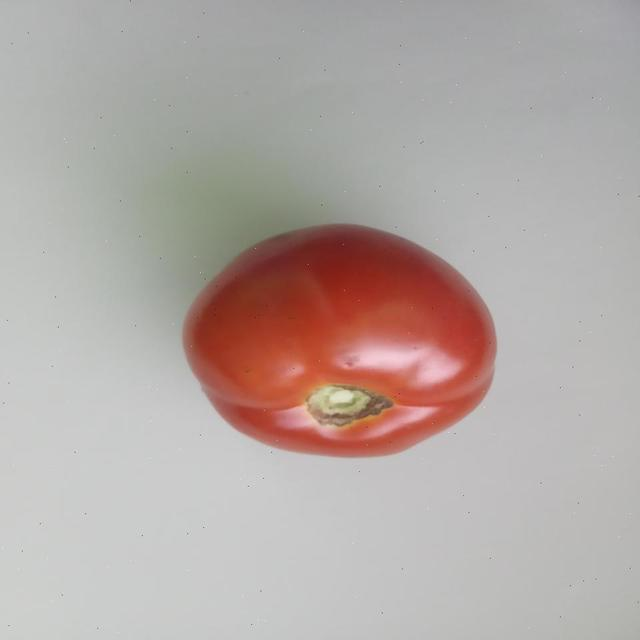Healthy Fruit: (126, 152, 341, 312)
